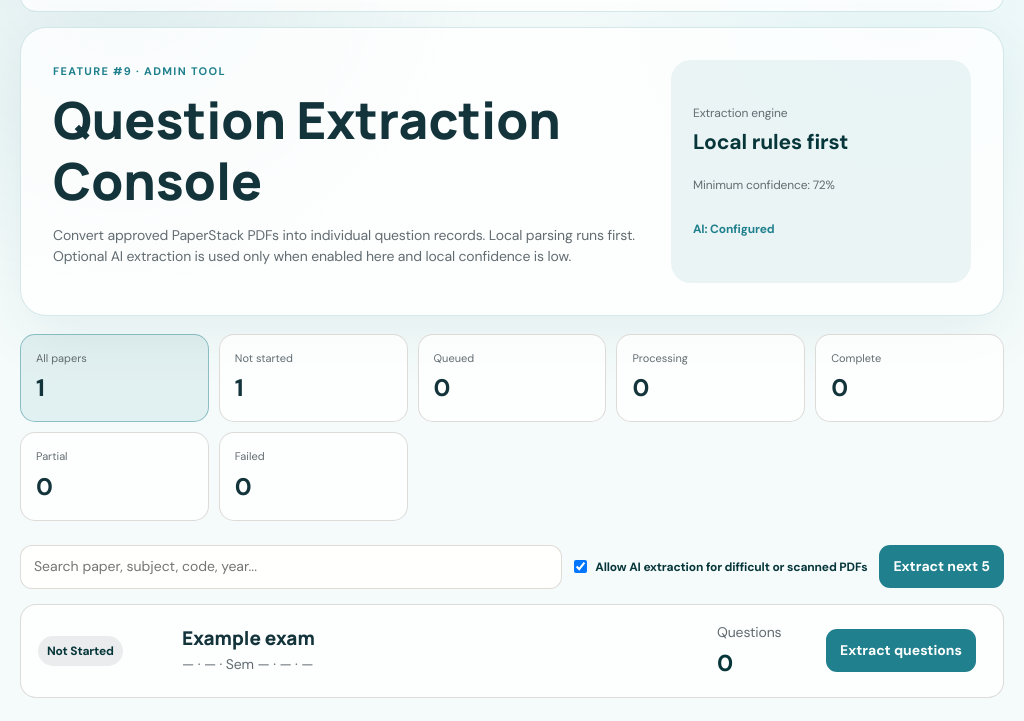
Test case: shows the reason returned for a zero-question extraction
(page scrolled)
Click the button "Extract questions".
click(901, 651)  # box [826,629,976,672]
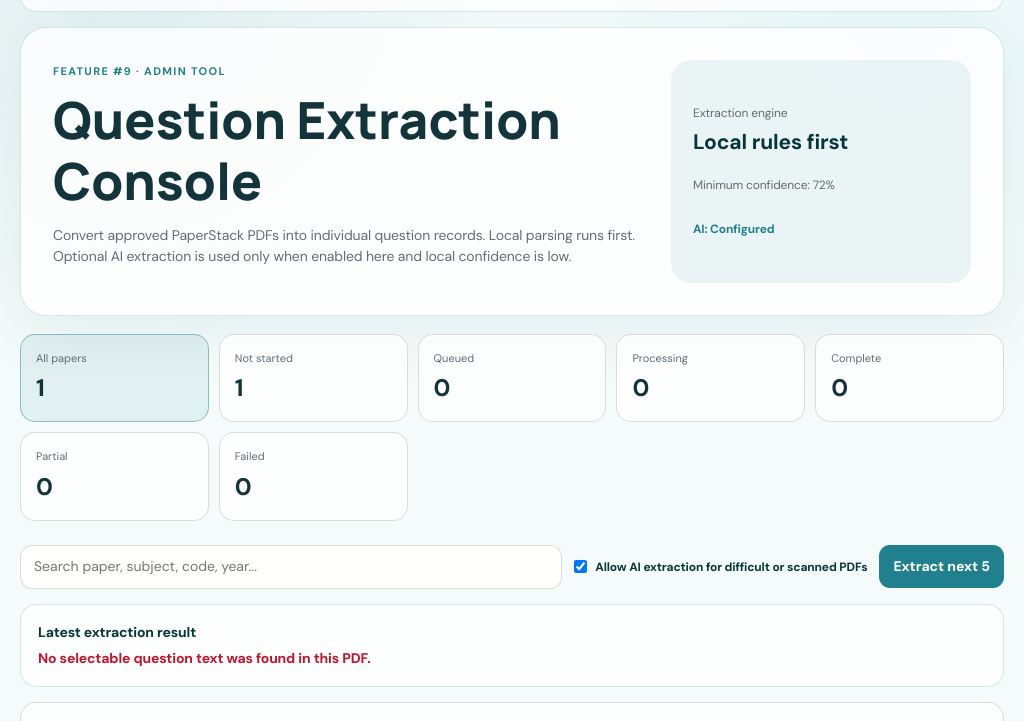
Check: the message reads "No selectable question text was found in this PDF.", box [38,649,371,667]
